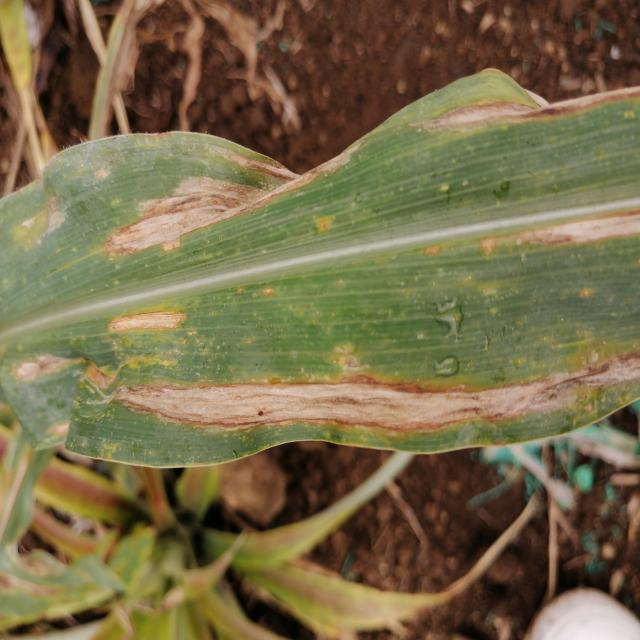Corn_Leaf_Blight: (0, 70, 640, 456)
